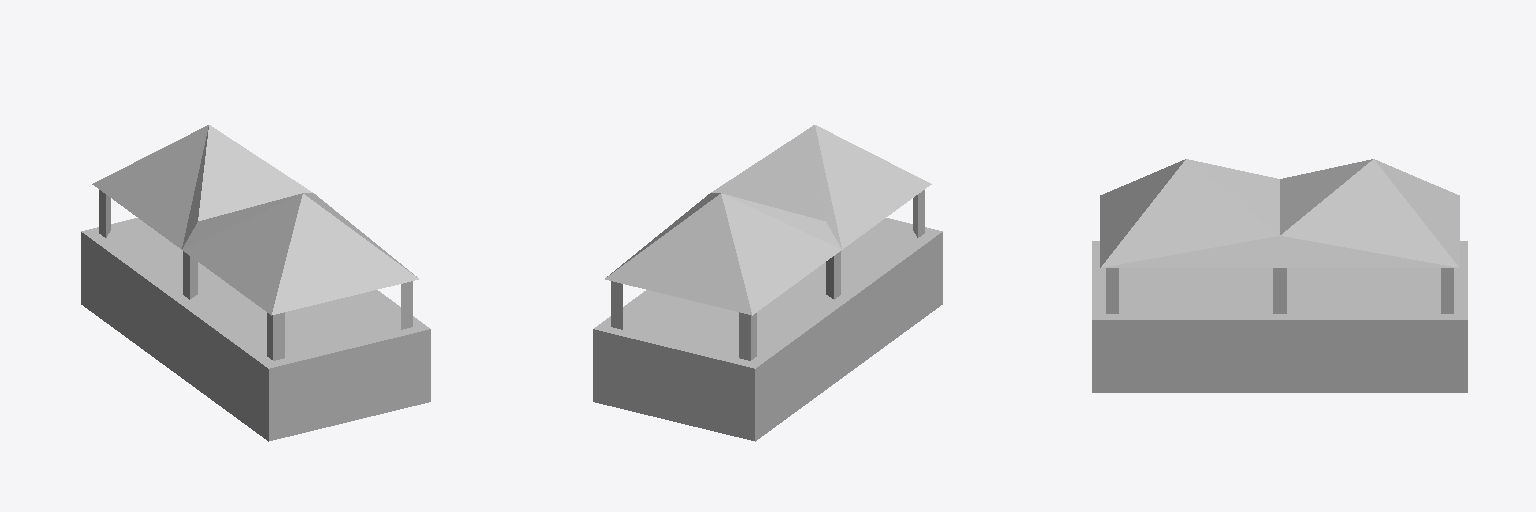
File: fancy_stands_full.obj
The picture shows the model from 3 angles: view 1: azimuth 30°, elevation 25°; view 2: azimuth 150°, elevation 25°; view 3: azimuth 270°, elevation 25°; orthographic projection.
Parts seen in each view (by area): view 1: Cube.001; view 2: Cube.001; view 3: Cube.001.
Part boxes in pixels (left/top/right/bottom): Cube.001: left=81, top=125, right=430, bottom=441; Cube.001: left=593, top=125, right=942, bottom=441; Cube.001: left=1092, top=159, right=1467, bottom=392.
Bounding box in the file's own units: 70 × 80 × 140.